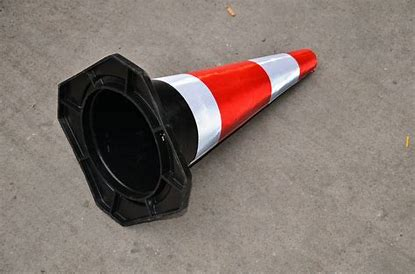traffic_cone: (41, 42, 340, 213)
